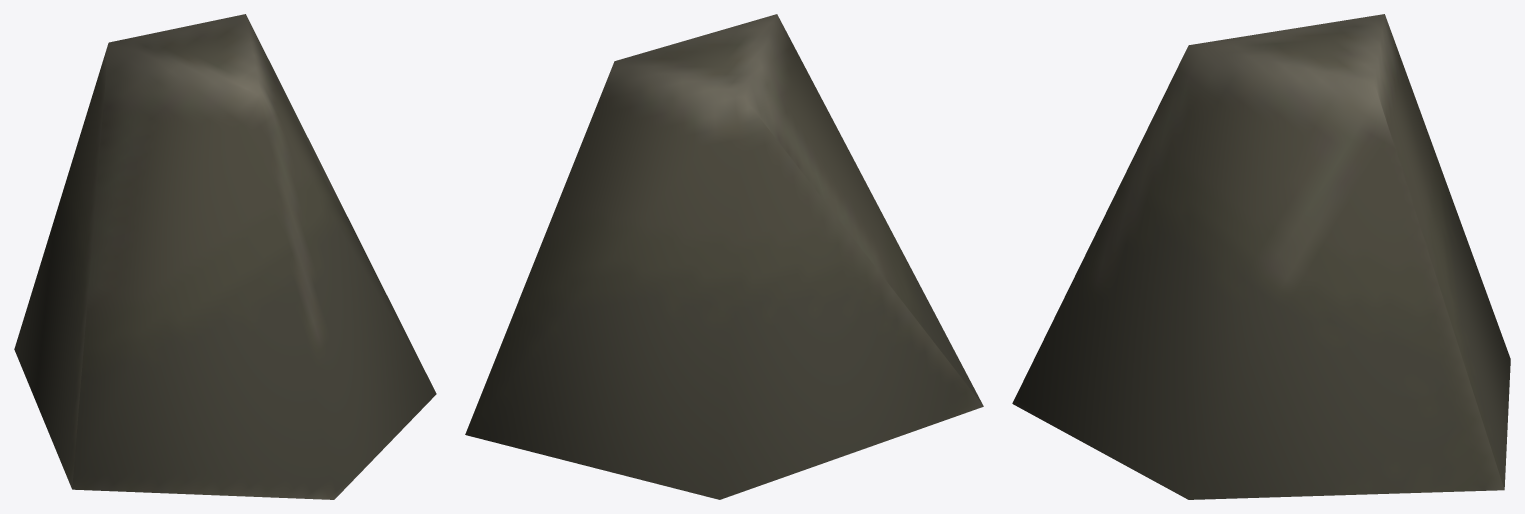
File: sn_longmai_shibianw_005.FBX
3 renders of one model, left to right at view 1: azimuth 30°, elevation 25°; view 2: azimuth 150°, elevation 25°; view 3: azimuth 270°, elevation 25°, orthographic. The views are drawn at different scales.
Visible parts, largest first — view 1: sn_longmai_shibianw_005; view 2: sn_longmai_shibianw_005; view 3: sn_longmai_shibianw_005.
Boxes of the visible parts, x1,y1,x2,y2 form: sn_longmai_shibianw_005: [14, 14, 436, 499]; sn_longmai_shibianw_005: [465, 14, 983, 499]; sn_longmai_shibianw_005: [1012, 14, 1510, 499].
Bounding box in the file's own units: 24.85 × 21.85 × 27.16.
